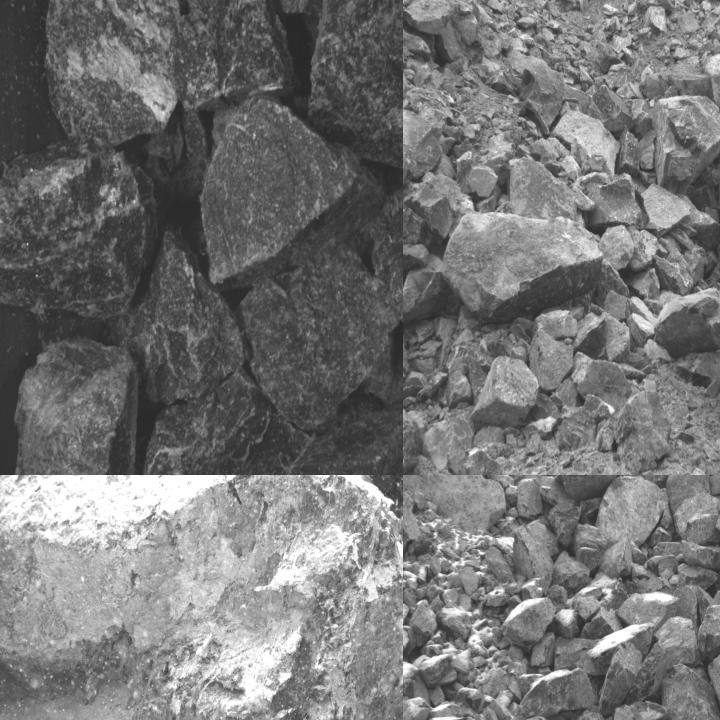stone: (0, 475, 402, 719), (200, 98, 386, 288), (243, 241, 398, 434), (0, 145, 154, 318), (122, 228, 247, 404), (47, 0, 191, 147), (139, 368, 314, 474), (307, 0, 402, 177), (15, 338, 137, 474), (147, 0, 295, 109), (267, 403, 402, 474), (370, 158, 402, 426), (403, 475, 509, 540), (631, 616, 698, 702), (607, 390, 672, 473), (598, 475, 668, 546), (551, 110, 620, 174), (511, 669, 598, 719), (520, 57, 565, 136), (513, 519, 559, 595), (598, 641, 642, 718), (557, 395, 615, 450), (663, 664, 719, 719), (503, 598, 558, 652), (422, 416, 474, 469), (403, 114, 444, 177), (672, 492, 719, 545), (618, 593, 680, 632), (589, 85, 633, 131), (551, 551, 590, 597), (403, 389, 424, 474), (668, 475, 711, 515), (483, 130, 514, 184), (654, 256, 693, 295), (403, 0, 452, 31), (262, 0, 351, 17), (698, 591, 719, 662), (549, 502, 581, 548), (603, 312, 631, 364), (598, 538, 634, 578), (403, 18, 433, 61), (458, 448, 503, 474), (517, 476, 543, 521), (704, 51, 719, 124), (684, 247, 704, 284), (606, 64, 636, 88), (477, 187, 502, 212), (564, 707, 611, 719), (403, 40, 412, 57)
